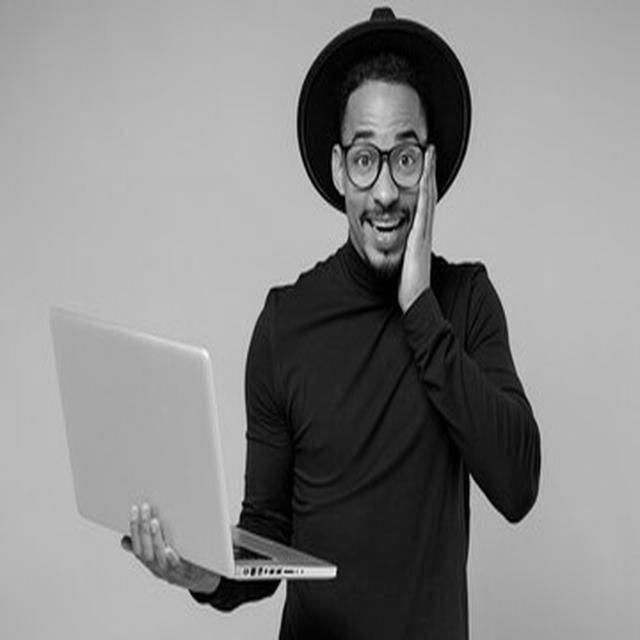Surprised: (341, 83, 428, 276)
